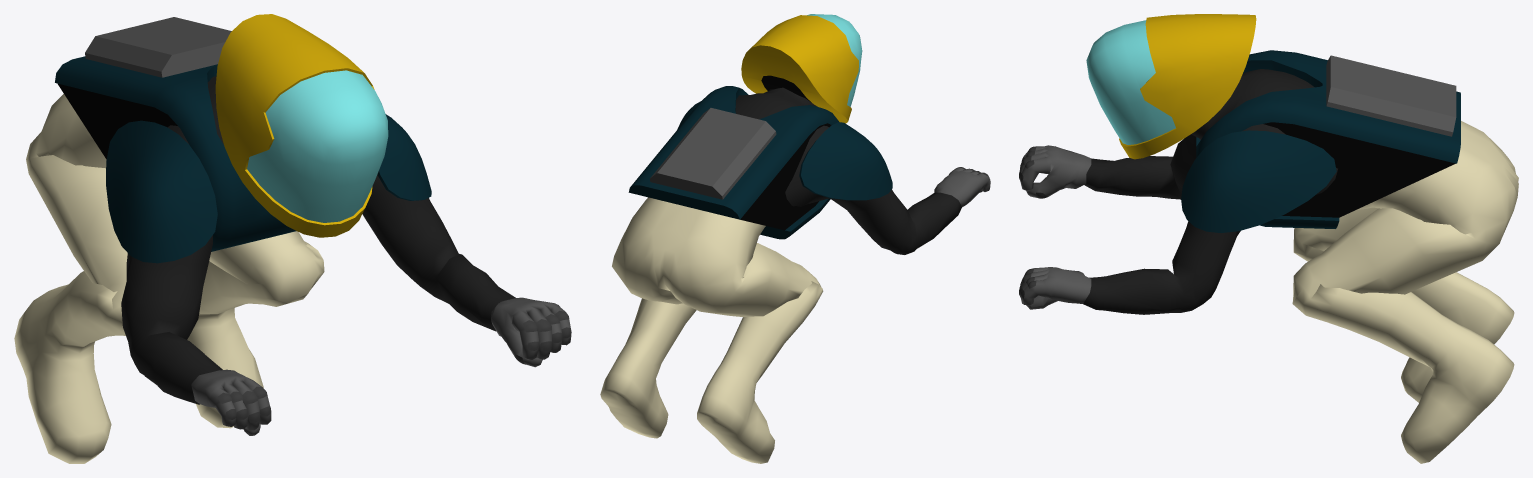
The model's file is Human.fbx.
3 renders of one model, left to right at view 1: azimuth 30°, elevation 25°; view 2: azimuth 150°, elevation 25°; view 3: azimuth 270°, elevation 25°, orthographic. The views are drawn at different scales.
Parts seen in each view (by area): view 1: Character.001; view 2: Character.001; view 3: Character.001.
Part boxes in pixels (box(x1,y1,x2,y2)): Character.001: box(14, 14, 571, 463); Character.001: box(600, 14, 990, 463); Character.001: box(1019, 14, 1518, 463).
Bounding box in the file's own units: 0.7437 × 1.01 × 1.11.
